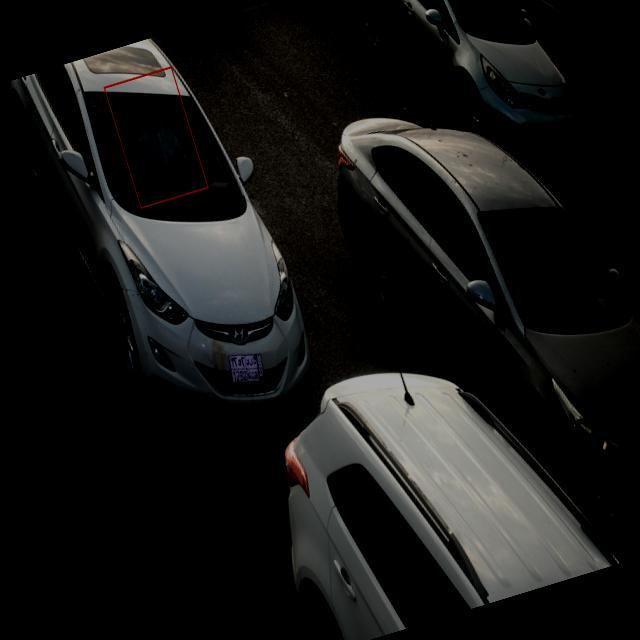windshield: (84, 80, 245, 226), (472, 196, 622, 342)
